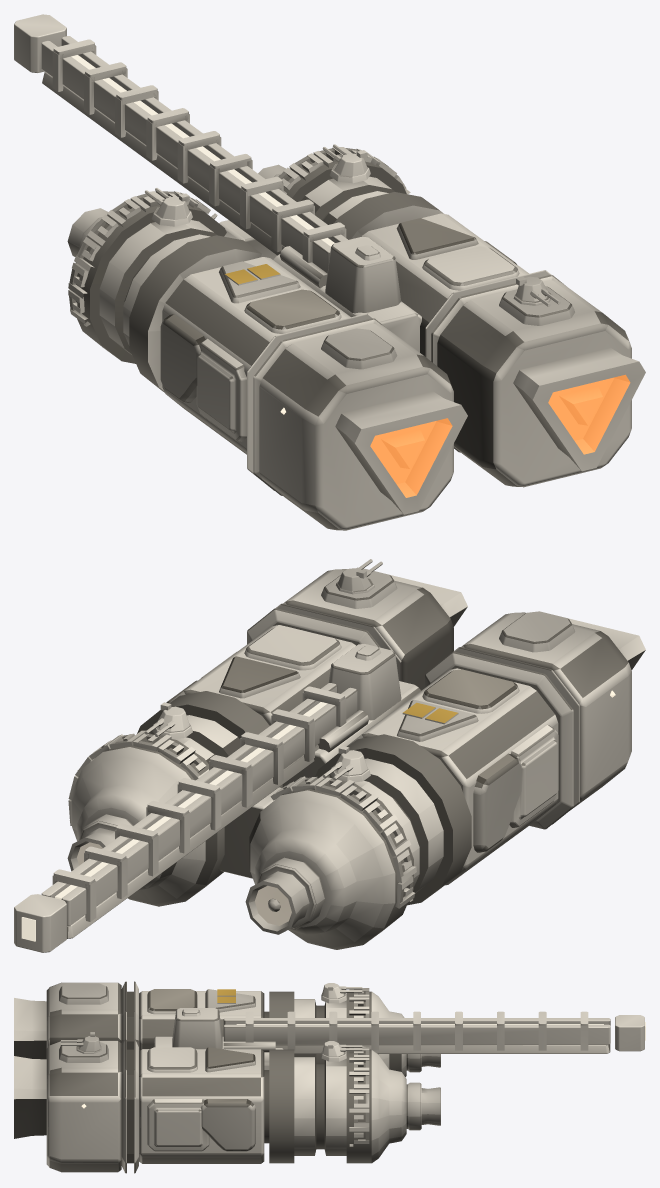
Rendered from plektor_frigate.glb.
3 views of the same model, one above another, from view 1: azimuth 30°, elevation 25°; view 2: azimuth 150°, elevation 25°; view 3: azimuth 270°, elevation 25° (orthographic). The views are drawn at different scales.
Visible parts, largest first — view 1: hull, engines, pd_1, pd_0, pd_2; view 2: hull, engines, pd_0, pd_1, pd_2; view 3: hull, engines, pd_1, pd_0, pd_2.
Part boxes in pixels (bbox=[...]): hull: bbox=[14, 14, 631, 530]; engines: bbox=[67, 164, 645, 514]; pd_1: bbox=[322, 144, 370, 183]; pd_0: bbox=[145, 188, 192, 226]; pd_2: bbox=[513, 276, 560, 306]; hull: bbox=[14, 568, 631, 952]; engines: bbox=[67, 574, 645, 934]; pd_0: bbox=[322, 746, 370, 782]; pd_1: bbox=[144, 702, 192, 739]; pd_2: bbox=[336, 559, 382, 594]; hull: bbox=[46, 981, 645, 1173]; engines: bbox=[14, 998, 440, 1138]; pd_1: bbox=[321, 1041, 362, 1061]; pd_0: bbox=[321, 983, 362, 1003]; pd_2: bbox=[61, 1032, 101, 1053].
Size of the model in its own units: 19.7 by 10.27 by 48.
9 materials, 4 textured.
